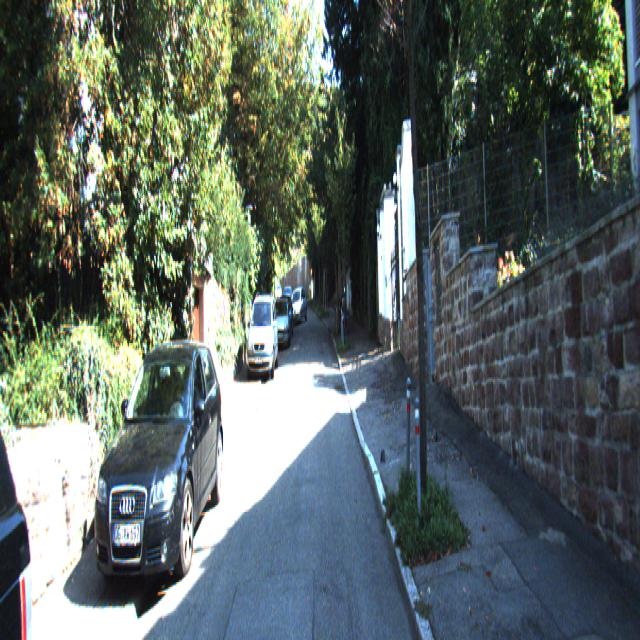Car: (87, 334, 225, 610), (247, 291, 279, 383), (272, 294, 291, 349), (288, 287, 308, 327)
